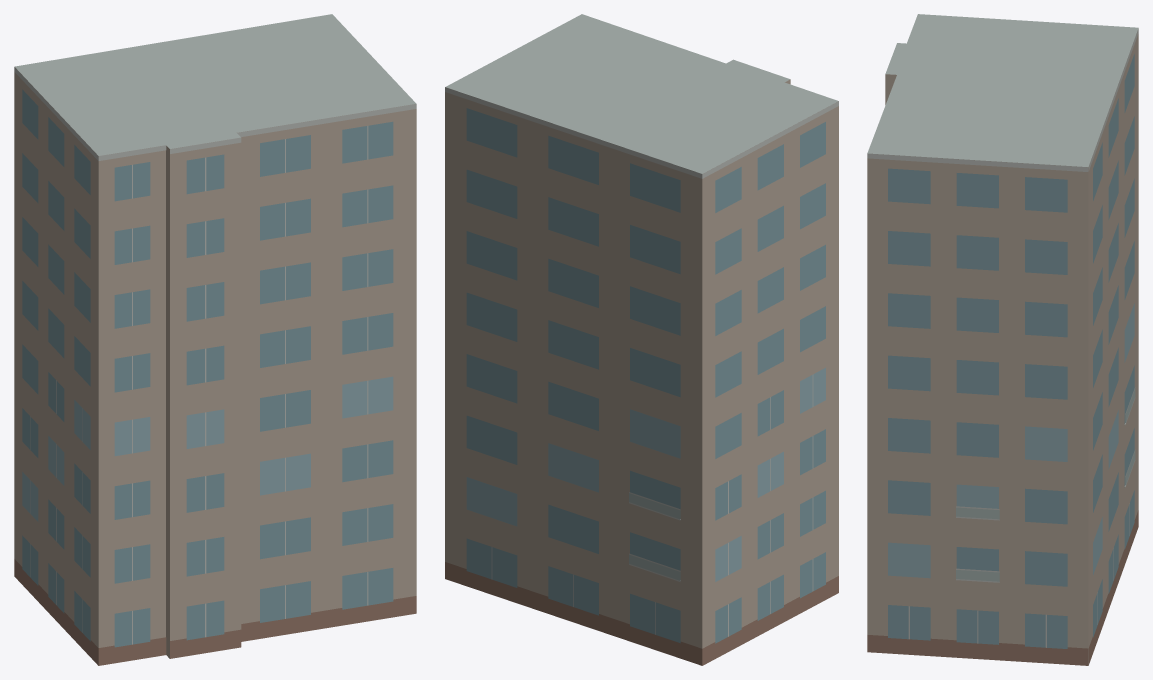
File: survey-upis-32508016.glb
3 views of the same model, side by side, from view 1: azimuth 30°, elevation 25°; view 2: azimuth 150°, elevation 25°; view 3: azimuth 270°, elevation 25° (orthographic). The views are drawn at different scales.
Parts seen in each view (by area): view 1: survey-upis-32508016.tmp; view 2: survey-upis-32508016.tmp; view 3: survey-upis-32508016.tmp.
Boxes of the visible parts, x1,y1,x2,y2 form: survey-upis-32508016.tmp: [14, 14, 416, 665]; survey-upis-32508016.tmp: [445, 14, 838, 665]; survey-upis-32508016.tmp: [867, 14, 1138, 665].
Bounding box in the file's own units: 16.08 × 24.4 × 12.05.
